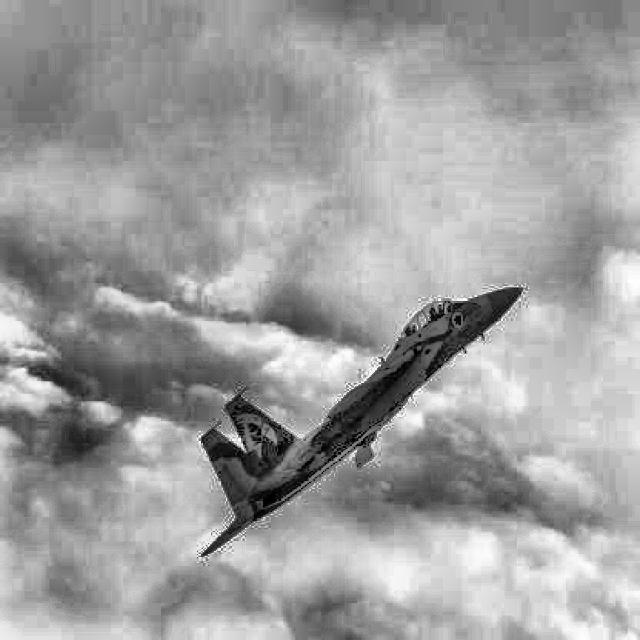F15: (200, 286, 523, 554)
